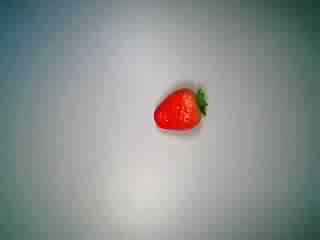strawberry: (147, 79, 209, 138)
